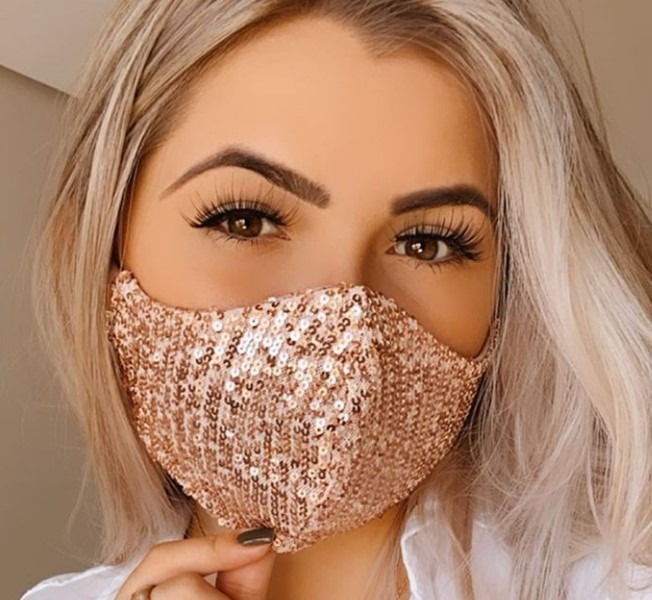face_with_mask: (83, 6, 545, 558)
